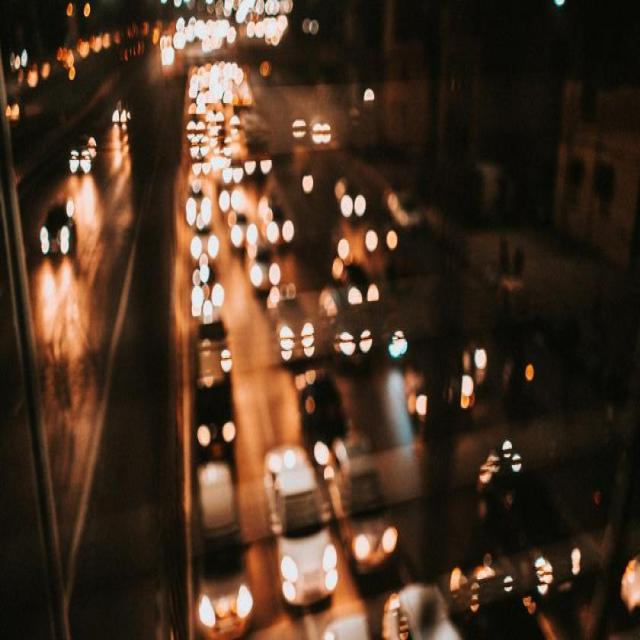other: (173, 64, 300, 309), (326, 180, 400, 304), (272, 318, 420, 375), (29, 256, 92, 345), (272, 534, 344, 611), (161, 8, 285, 52), (13, 41, 83, 96), (90, 10, 154, 62)
